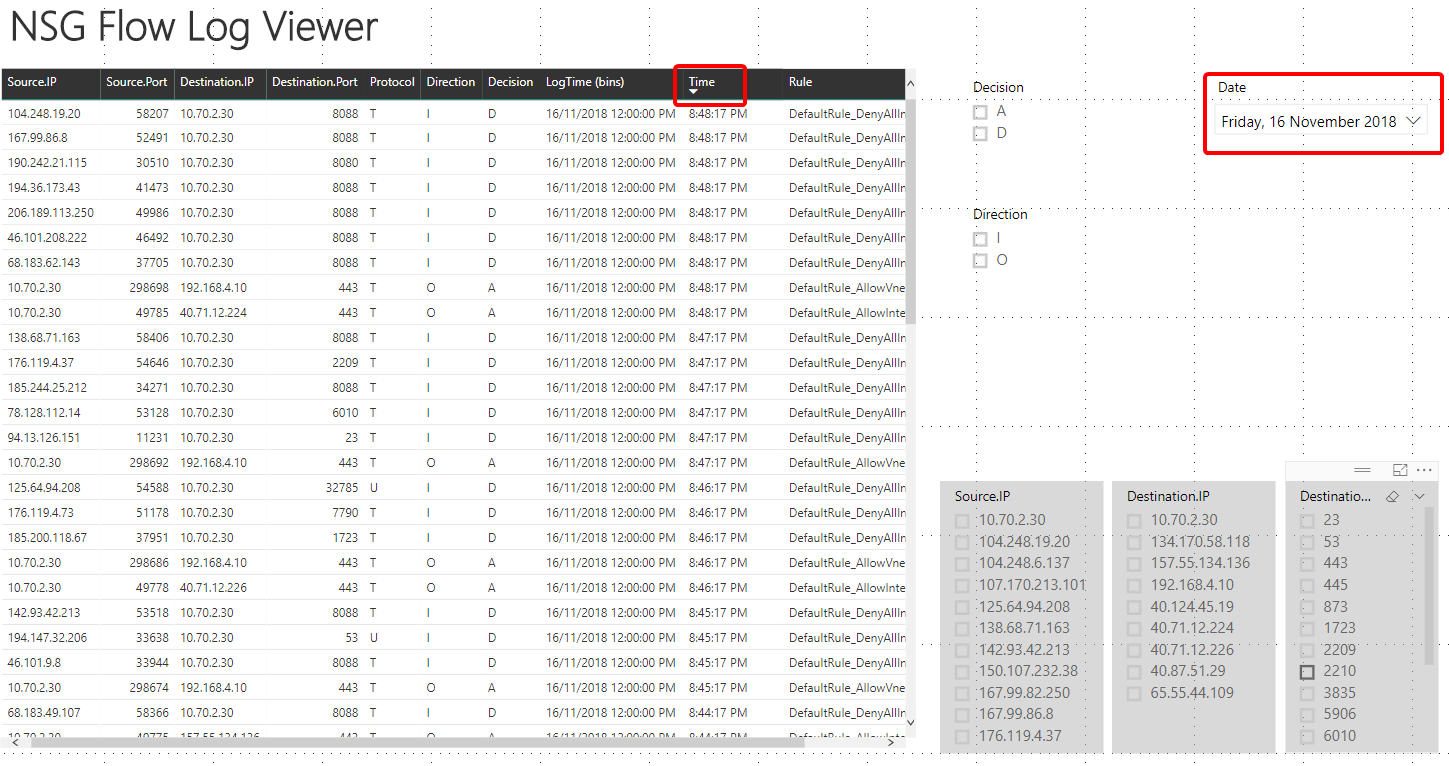

This screenshot's page, from the dashboard's own definition file:
{"tool":"powerbi","page":{"name":"Log Viewer","canvas":[1280,720],"ordinal":1},"visuals":[{"type":"tableEx","fields":{"Values":["NSGFlowLogParser.Source.IP","Sum(NSGFlowLogParser.Source.Port)","NSGFlowLogParser.Destination.IP","NSGFlowLogParser.Destination.Port","NSGFlowLogParser.Protocol","NSGFlowLogParser.Direction","NSGFlowLogParser.Decision","NSGFlowLogParser.LogTime (bins)","NSGFlowLogParser.Time","NSGFlowLogParser.Rule"]},"box":[0,64,816,608],"z":1},{"type":"slicer","fields":{"Values":["NSGFlowLogParser.Destination.IP"]},"box":[984,432,144,240],"z":2},{"type":"slicer","fields":{"Values":["NSGFlowLogParser.Source.IP"]},"box":[832,432,144,240],"z":3},{"type":"slicer","fields":{"Values":["NSGFlowLogParser.Decision"]},"box":[848,72,208,80],"z":4},{"type":"slicer","fields":{"Values":["NSGFlowLogParser.Destination.Port"]},"box":[1136,432,136,240],"z":5},{"type":"slicer","fields":{"Values":["NSGFlowLogParser.Direction"]},"box":[848,184,208,88],"z":7},{"type":"textbox","box":[8,0,376,64],"z":8},{"type":"slicer","fields":{"Values":["NSGFlowLogParser.Date"]},"box":[1064,72,208,80],"z":8}]}

Visuals, with their boxes on the page's 1280x720 design canvas (x1, y1, x2, y2). These are canvas units, not pixel positions in the 1449x766 screenshot, which may show the page scaled, cropped or inside an application window:
tableEx - NSGFlowLogParser.Source.IP x Sum(NSGFlowLogParser.Source.Port): 0:64:816:672
slicer - NSGFlowLogParser.Destination.IP: 984:432:1128:672
slicer - NSGFlowLogParser.Source.IP: 832:432:976:672
slicer - NSGFlowLogParser.Decision: 848:72:1056:152
slicer - NSGFlowLogParser.Destination.Port: 1136:432:1272:672
slicer - NSGFlowLogParser.Direction: 848:184:1056:272
textbox: 8:0:384:64
slicer - NSGFlowLogParser.Date: 1064:72:1272:152
